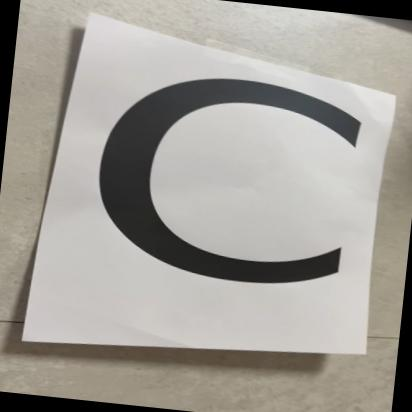seat: (42, 0, 409, 378)
